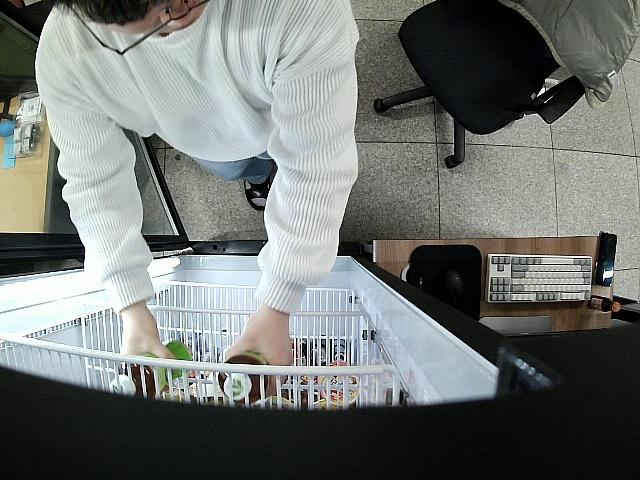00_hand: (224, 309, 293, 398), (119, 308, 178, 365)
19_17cha: (108, 338, 194, 399), (218, 349, 273, 404)
